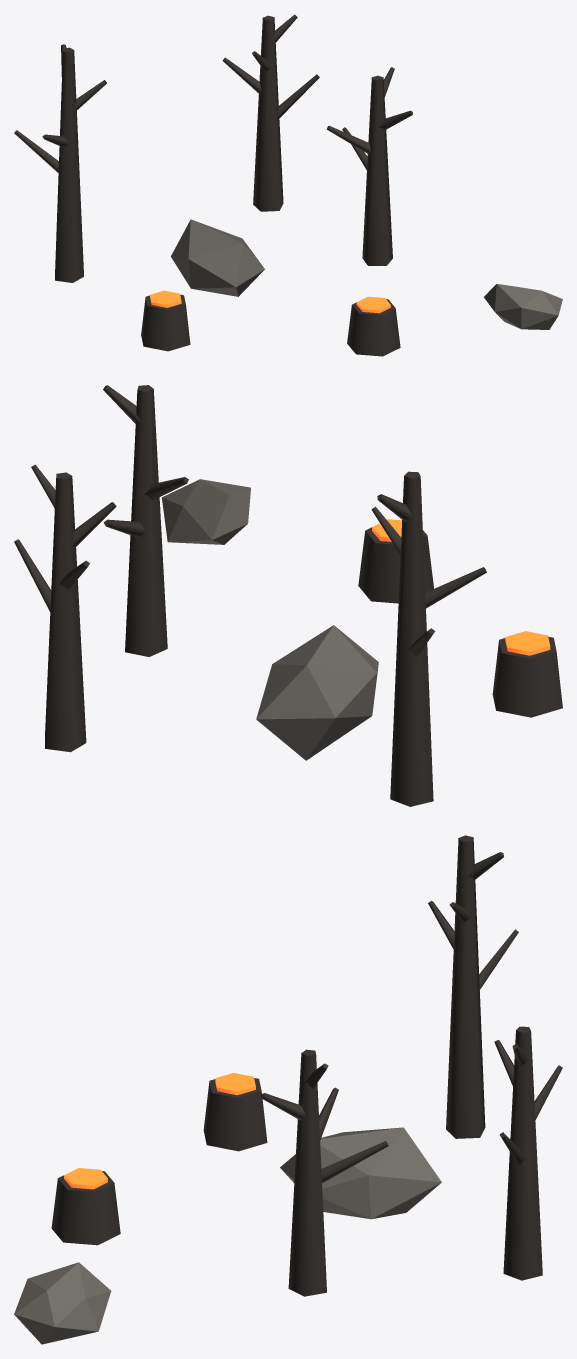
File: sawyer_dead_snags_e.glb
3 renders of one model, top to bottom at view 1: azimuth 30°, elevation 25°; view 2: azimuth 150°, elevation 25°; view 3: azimuth 270°, elevation 25°, orthographic. The views are drawn at different scales.
Visible parts, largest first — view 1: dead_1_trunk, rock_4_rock, dead_5_trunk, dead_0_trunk, rock_6_rock, stump_2_stump, stump_3_stump, stump_2_ember, stump_3_ember, dead_5_branch0; view 2: rock_4_rock, dead_1_trunk, dead_5_trunk, dead_0_trunk, rock_6_rock, stump_3_stump, stump_2_stump, stump_3_ember, dead_1_branch1, dead_5_branch0, dead_5_branch2; view 3: rock_4_rock, dead_1_trunk, dead_5_trunk, dead_0_trunk, rock_6_rock, stump_2_stump, stump_3_stump, dead_0_branch0, stump_2_ember, stump_3_ember.
Boxes of the visible parts, left/top/right/bottom form: dead_1_trunk: left=55, top=47, right=83, bottom=282; rock_4_rock: left=171, top=219, right=264, bottom=296; dead_5_trunk: left=253, top=15, right=283, bottom=211; dead_0_trunk: left=362, top=75, right=392, bottom=265; rock_6_rock: left=484, top=284, right=562, bottom=329; stump_2_stump: left=347, top=299, right=400, bottom=356; stump_3_stump: left=141, top=294, right=190, bottom=351; stump_2_ember: left=356, top=296, right=390, bottom=313; stump_3_ember: left=150, top=290, right=181, bottom=307; dead_5_branch0: left=277, top=74, right=319, bottom=118; rock_4_rock: left=256, top=625, right=378, bottom=760; dead_1_trunk: left=390, top=471, right=433, bottom=806; dead_5_trunk: left=45, top=472, right=86, bottom=752; dead_0_trunk: left=125, top=385, right=167, bottom=656; rock_6_rock: left=161, top=479, right=250, bottom=544; stump_3_stump: left=492, top=636, right=562, bottom=717; stump_2_stump: left=358, top=527, right=433, bottom=603; stump_3_ember: left=505, top=631, right=550, bottom=655; dead_1_branch1: left=423, top=567, right=486, bottom=608; dead_5_branch0: left=14, top=539, right=51, bottom=611; dead_5_branch2: left=70, top=502, right=116, bottom=546; rock_4_rock: left=280, top=1127, right=441, bottom=1219; dead_1_trunk: left=446, top=835, right=485, bottom=1138; dead_5_trunk: left=503, top=1026, right=542, bottom=1280; dead_0_trunk: left=288, top=1049, right=326, bottom=1296; rock_6_rock: left=14, top=1262, right=111, bottom=1344; stump_2_stump: left=51, top=1171, right=120, bottom=1245; stump_3_stump: left=203, top=1078, right=267, bottom=1151; dead_0_branch0: left=321, top=1141, right=388, bottom=1183; stump_2_ember: left=64, top=1168, right=107, bottom=1189; stump_3_ember: left=215, top=1073, right=255, bottom=1095.
Size of the model in its own units: 3.49 by 2.15 by 3.43.
